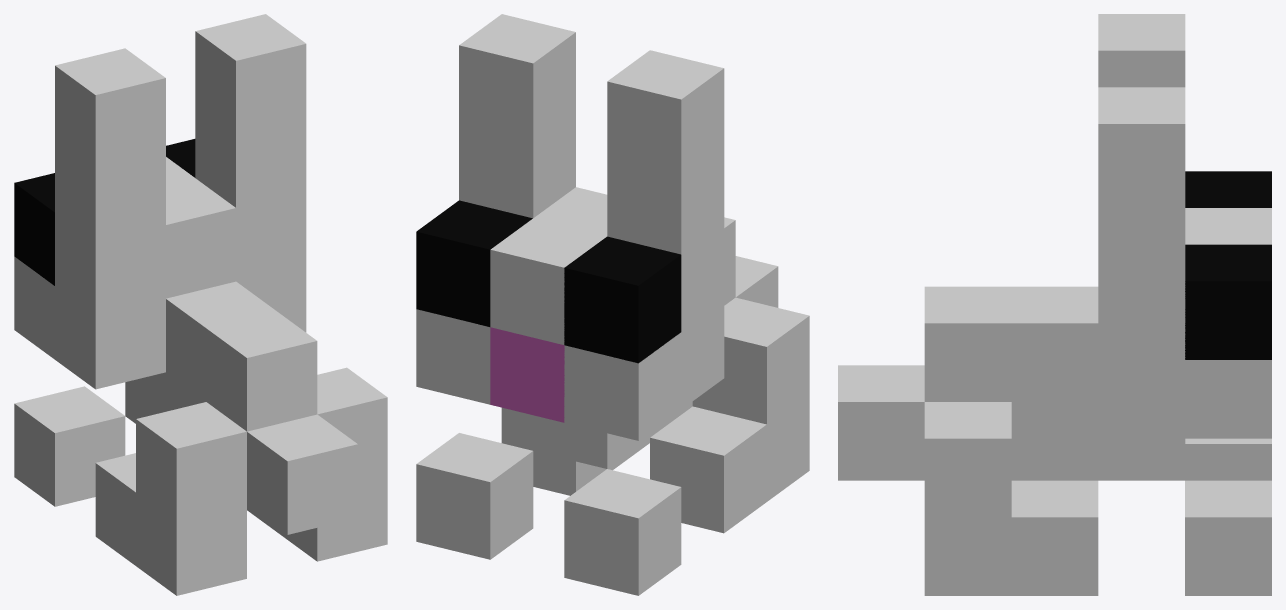
File: Wabbit.glb
3 views of the same model, side by side, from view 1: azimuth 30°, elevation 25°; view 2: azimuth 150°, elevation 25°; view 3: azimuth 270°, elevation 25° (orthographic). The views are drawn at different scales.
Visible parts, largest first — view 1: Wabbit; view 2: Wabbit; view 3: Wabbit.
Boxes of the visible parts, x1=… form: Wabbit: x1=14, y1=14, x2=387, y2=595; Wabbit: x1=416, y1=14, x2=809, y2=595; Wabbit: x1=838, y1=14, x2=1271, y2=595.
Bounding box in the file's own units: 0.3001 × 0.6001 × 0.5001.
